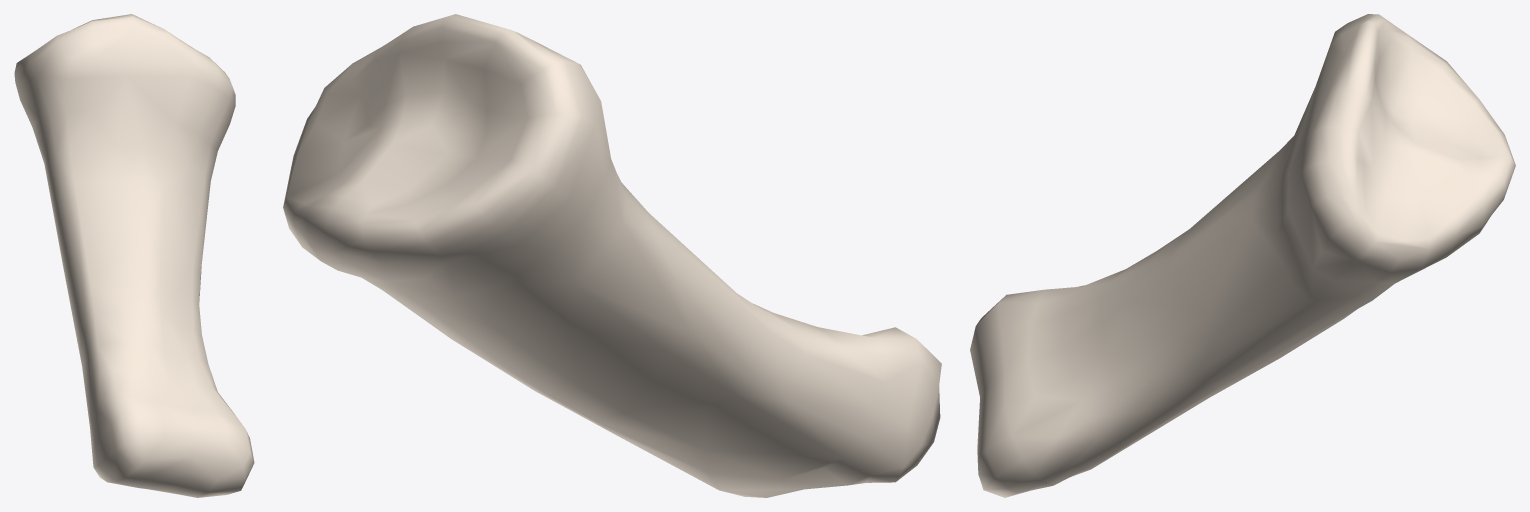
Rendered from right_digit_2_middle.glb.
3 views of the same model, side by side, from view 1: azimuth 30°, elevation 25°; view 2: azimuth 150°, elevation 25°; view 3: azimuth 270°, elevation 25° (orthographic). The views are drawn at different scales.
Visible parts, largest first — view 1: Middle phalanx of 2d finger.r; view 2: Middle phalanx of 2d finger.r; view 3: Middle phalanx of 2d finger.r.
Part boxes in pixels (bbox=[...]): Middle phalanx of 2d finger.r: bbox=[14, 14, 254, 497]; Middle phalanx of 2d finger.r: bbox=[283, 14, 941, 497]; Middle phalanx of 2d finger.r: bbox=[970, 14, 1515, 497].
Size of the model in its own units: 0.0148 by 0.0205 by 0.0212.
